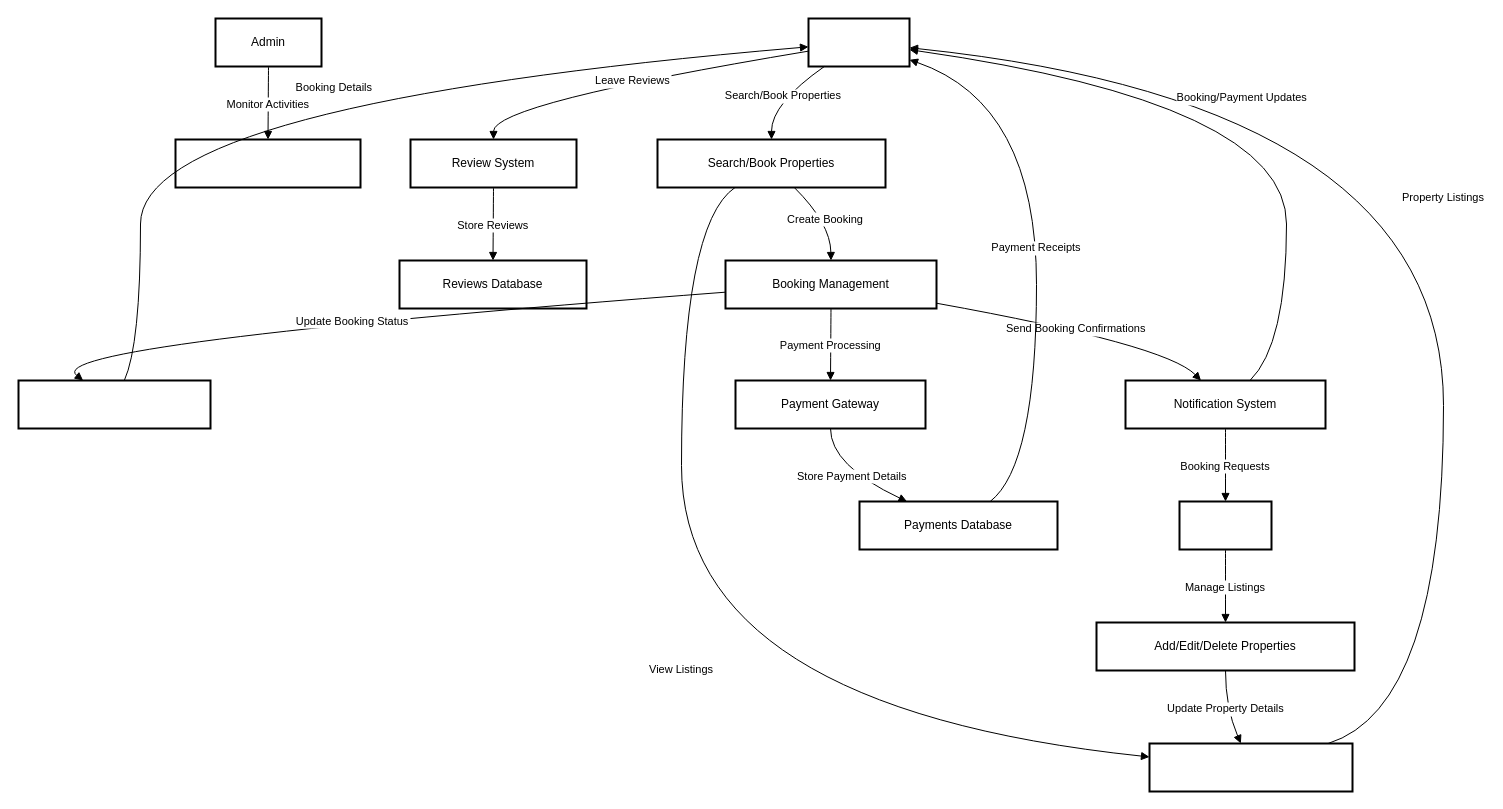
The diagram is 1503 pixels wide and 809 high, and some of its shapes have lost their labels. The box of each missing label's shape, as (x1, y1, x2, y2) in pixels:
Admin Dashboard: (174, 138, 361, 188)
Bookings Database: (17, 379, 211, 429)
Guest: (807, 17, 910, 67)
Host: (1178, 500, 1272, 550)
Properties Database: (1148, 742, 1353, 792)
